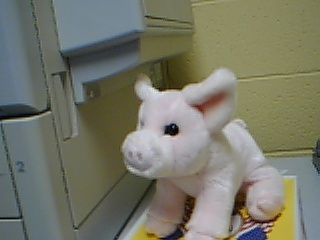piggy: (120, 66, 288, 240)
